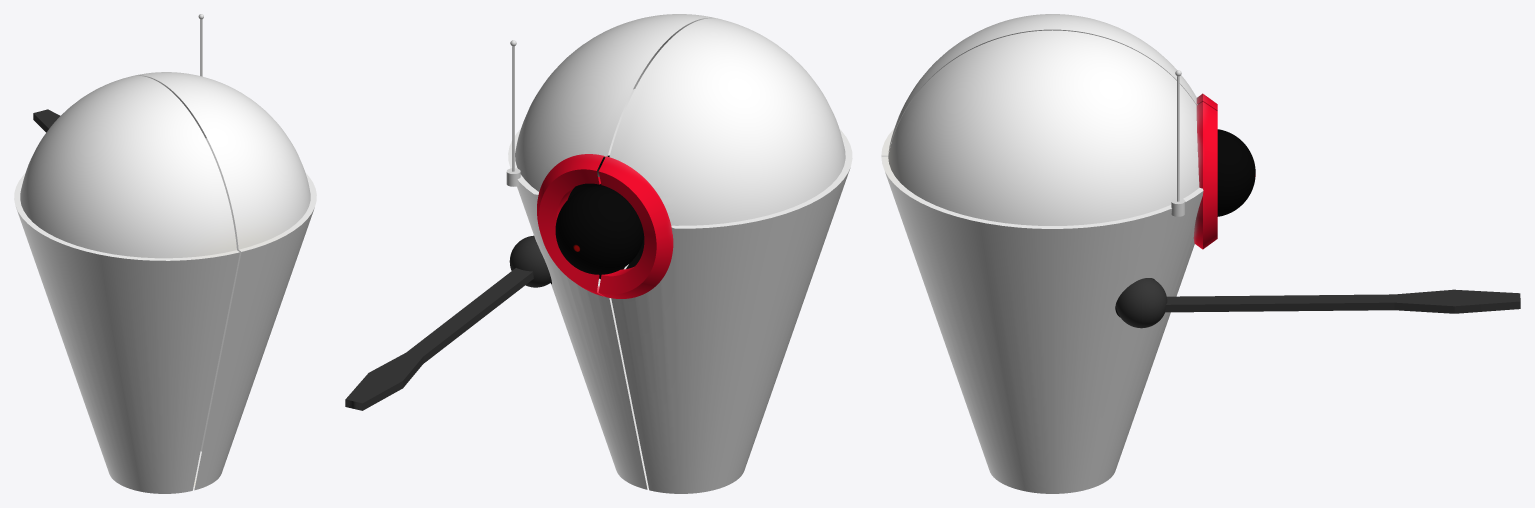
The model's file is Bobot.fbx.
3 renders of one model, left to right at view 1: azimuth 30°, elevation 25°; view 2: azimuth 150°, elevation 25°; view 3: azimuth 270°, elevation 25°, orthographic. The views are drawn at different scales.
Parts seen in each view (by area): view 1: hull.001, hull, arm; view 2: hull.001, hull, arm, cam, Antenna; view 3: hull, arm, hull.001, cam.
Boxes of the visible parts, x1,y1,x2,y2 form: hull.001: [14, 75, 239, 493]; hull: [133, 72, 316, 490]; arm: [33, 109, 60, 132]; hull.001: [598, 18, 852, 493]; hull: [508, 14, 717, 489]; arm: [345, 235, 551, 410]; cam: [555, 186, 643, 274]; Antenna: [506, 40, 520, 186]; hull: [881, 30, 1217, 493]; arm: [1115, 278, 1520, 328]; hull.001: [881, 14, 1217, 156]; cam: [1217, 129, 1255, 216].
Bounding box in the file's own units: 201 × 288 × 373.
Materials: 3 (3 with a texture image).
